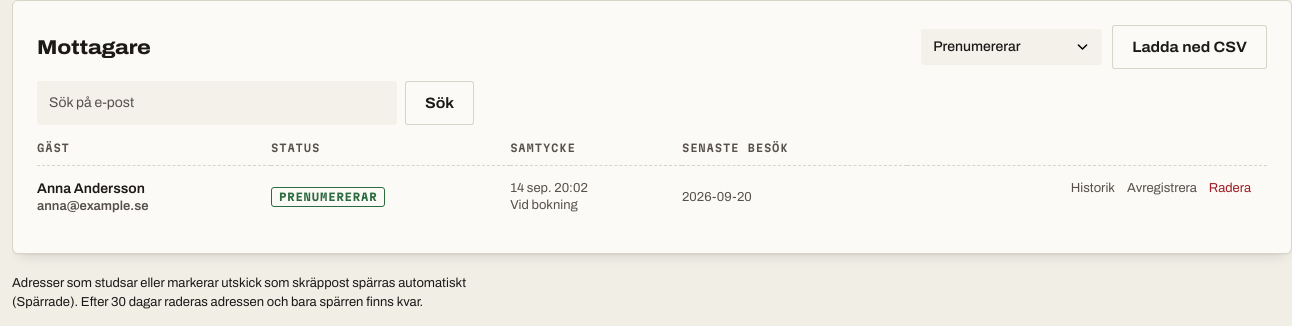
SubscribersTab › searches by e-mail and filters the suppressed group
This screenshot has width=1292, height=326.
Expected: the text "Anna Andersson" is shown, [37, 181, 145, 196]
Type " Bo@Example.se" into the field labelled "Sök på e-post" at (217, 103), box [37, 81, 397, 125]
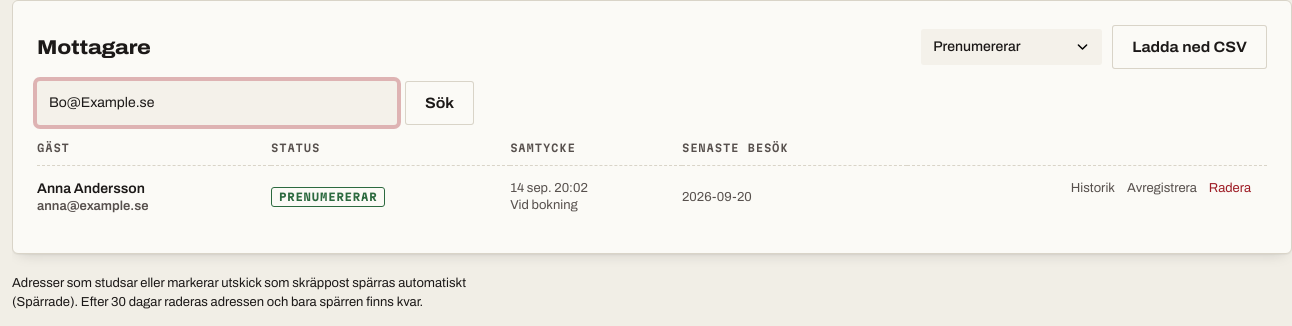
Click the button "Sök" at (440, 103), box [405, 81, 474, 125]
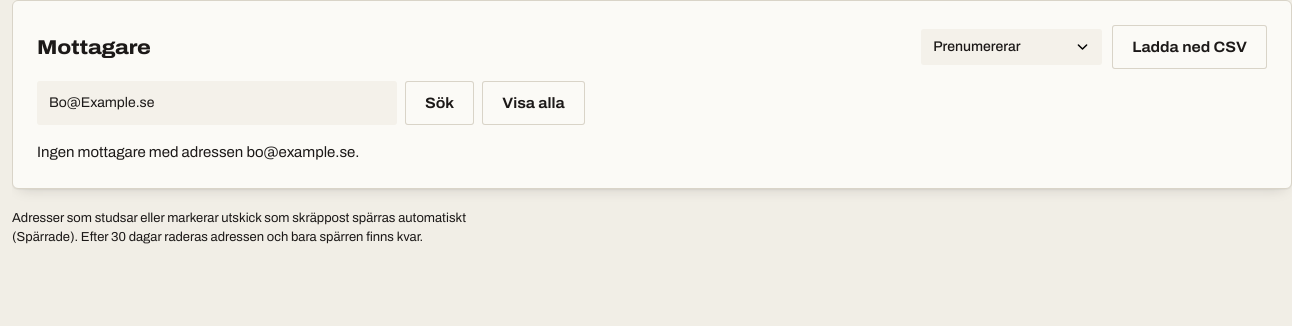
Expected: the text "Ingen mottagare med adressen bo@example.se." is shown, [37, 144, 360, 160]
Select "Spärrade" in the dropdown named "Visa" at (1012, 47), box [921, 29, 1102, 65]
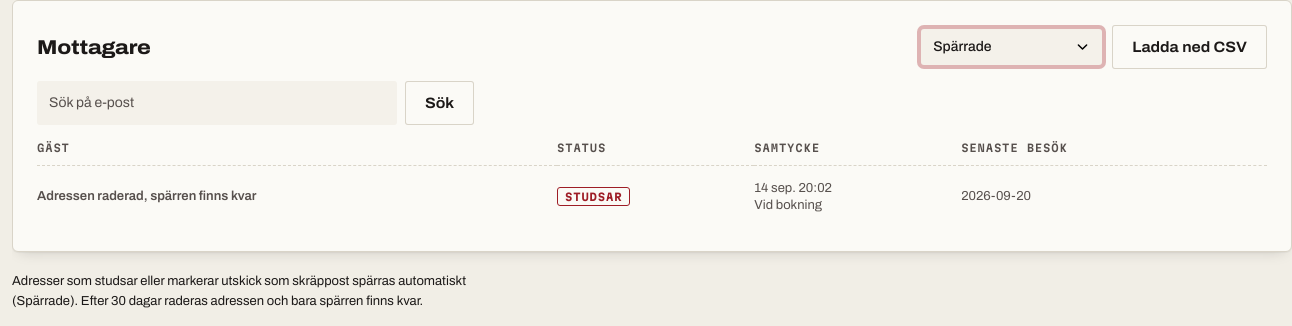
Expected: the text "Adressen raderad, spärren finns kvar" is shown, [37, 189, 256, 203]
